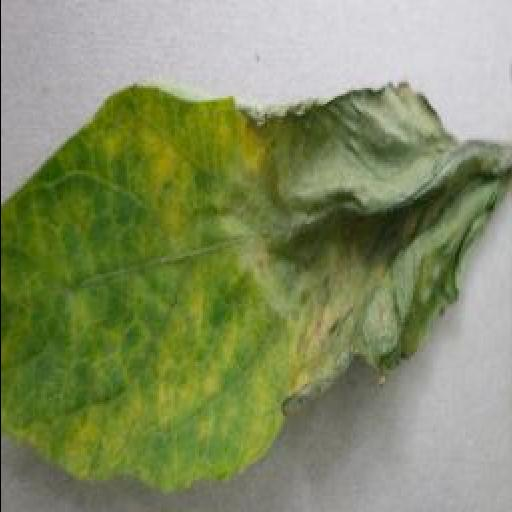disease_tomato: (0, 74, 512, 492)
